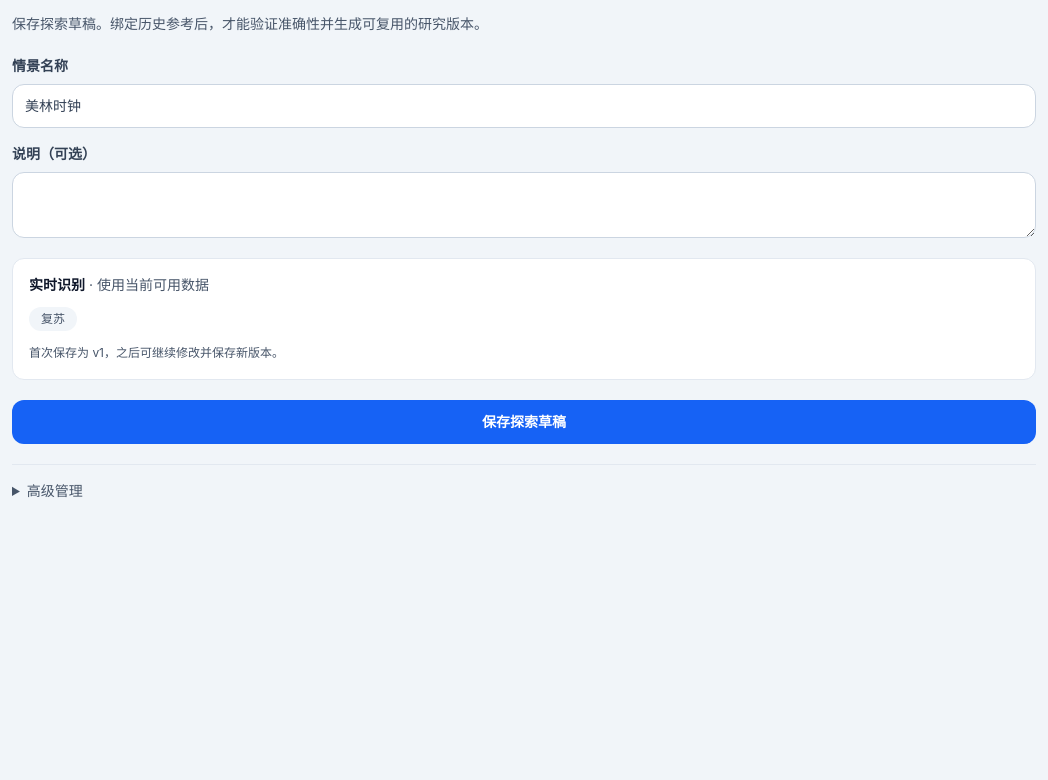
无参考实时探索只保存草稿，不计算或发布研究版本
The width and height of the screenshot is (1048, 780).
Click the button "保存探索草稿". click: (524, 422)
box: [12, 400, 1036, 444]
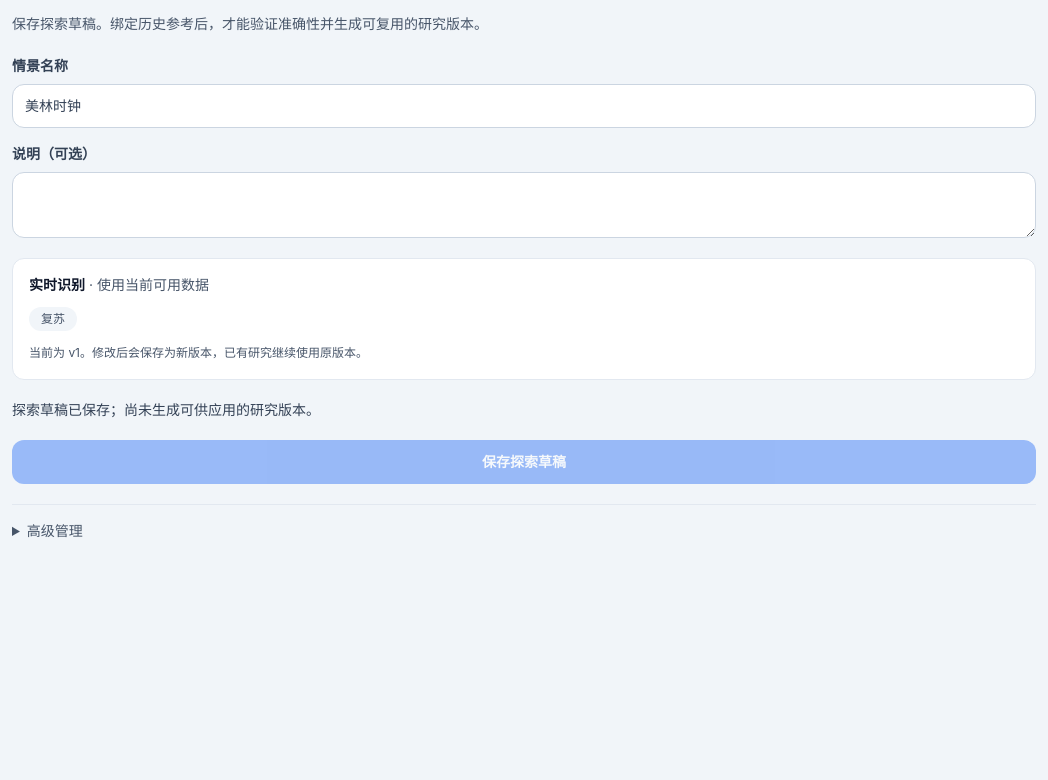
expect the text "探索草稿已保存；尚未生成可供应用的研究版本。" is shown: met, box [12, 401, 320, 418]
